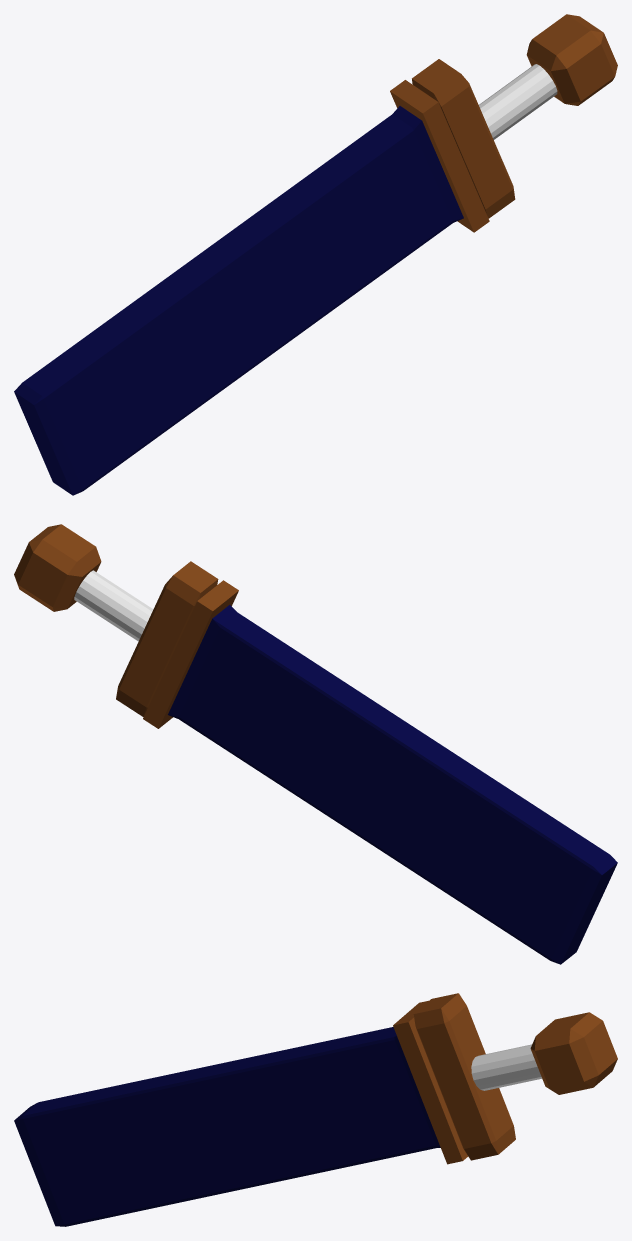
File: OneHandedSword.fbx
3 views of the same model, one above another, from view 1: azimuth 30°, elevation 25°; view 2: azimuth 150°, elevation 25°; view 3: azimuth 330°, elevation 25° (orthographic). The views are drawn at different scales.
Visible parts, largest first — view 1: Sheath, HandGuard; view 2: Sheath, HandGuard; view 3: Sheath, HandGuard.
Boxes of the visible parts, x1,y1,x2,y2 form: Sheath: (14,80,489,495); HandGuard: (412,14,617,218); Sheath: (143,580,617,964); HandGuard: (14,524,218,716); Sheath: (14,1000,467,1226); HandGuard: (413,993,617,1160).
Bounding box in the file's own units: 138 × 72.12 × 17.03.
